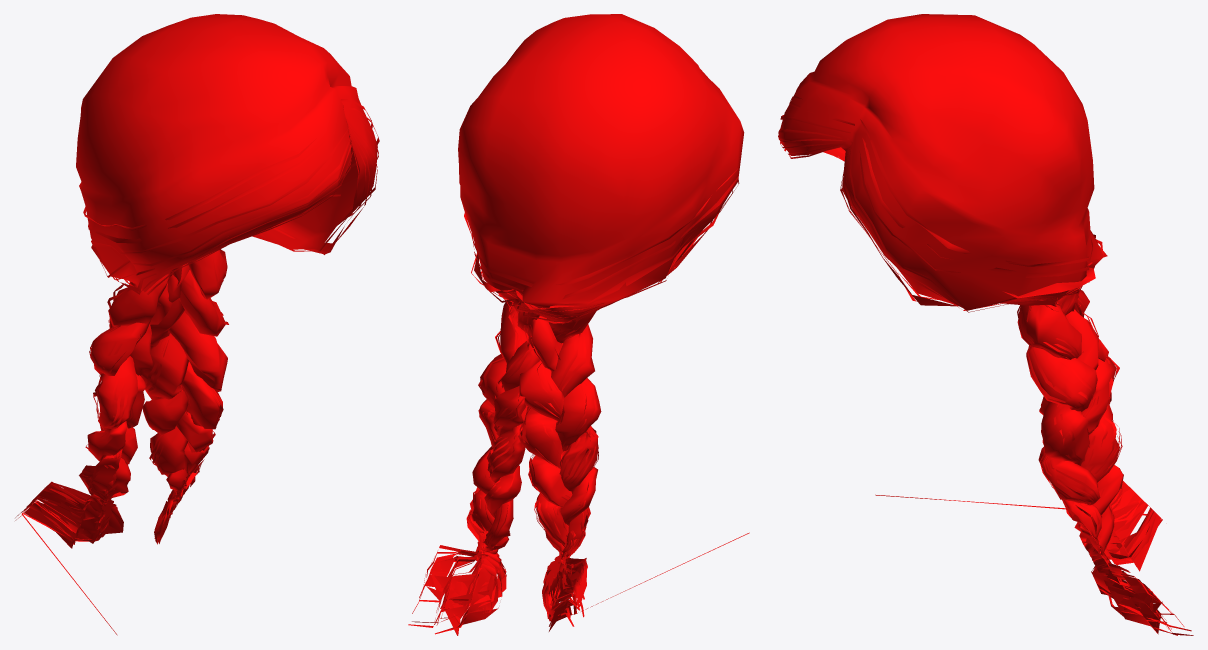
The model's file is elvs_double_mh_braid_F.glb.
3 renders of one model, left to right at view 1: azimuth 30°, elevation 25°; view 2: azimuth 150°, elevation 25°; view 3: azimuth 270°, elevation 25°, orthographic. The views are drawn at different scales.
Size of the model in its own units: 0.218 by 0.4676 by 0.3.
Materials: 1 (1 with a texture image).
